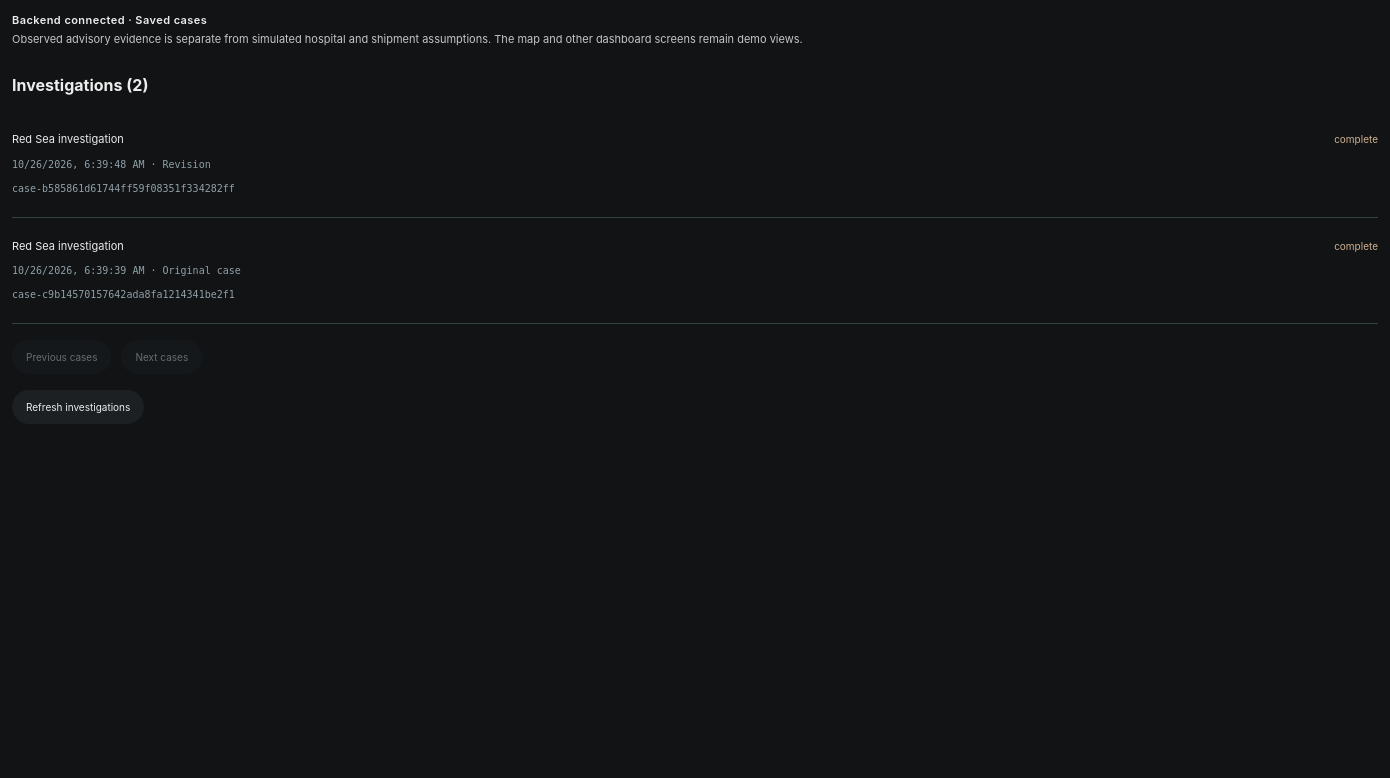
Test case: connected saved investigation drawer › opens a revised case and follows its actual immutable parent ID
The image size is (1390, 778).
Expected: the text "Backend connected · Saved cases" is shown, x1=12 y1=13 x2=207 y2=27
What coordinates should you click on to do the following:
click the button named "case-b585861d61744ff59f08351f334282ff"
I would click on:
 (68, 139)
Its box is x1=12 y1=111 x2=1378 y2=218.
(page scrolled)
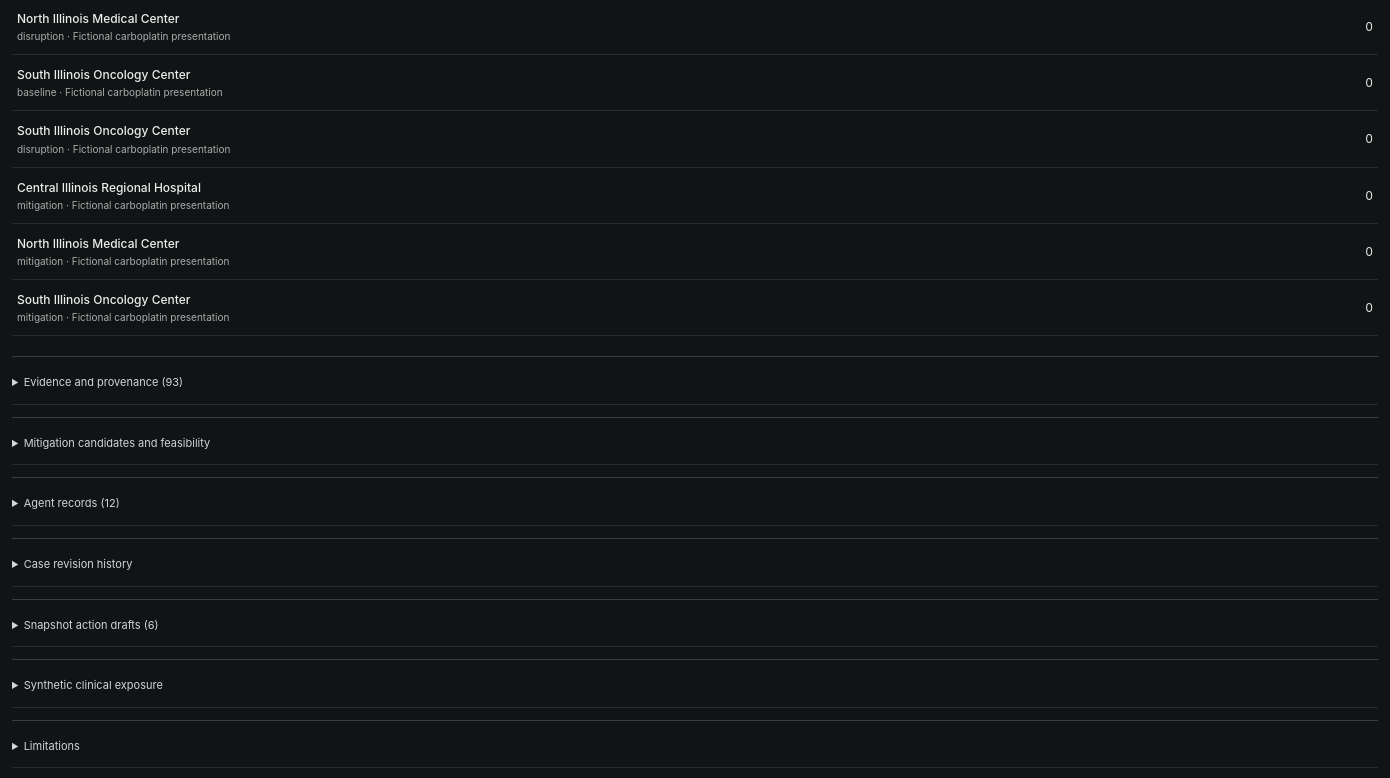
What coordinates should you click on to do the following:
click the heading "Case revision history"
I would click on:
 (78, 564)
Its box is x1=24 y1=557 x2=132 y2=571.
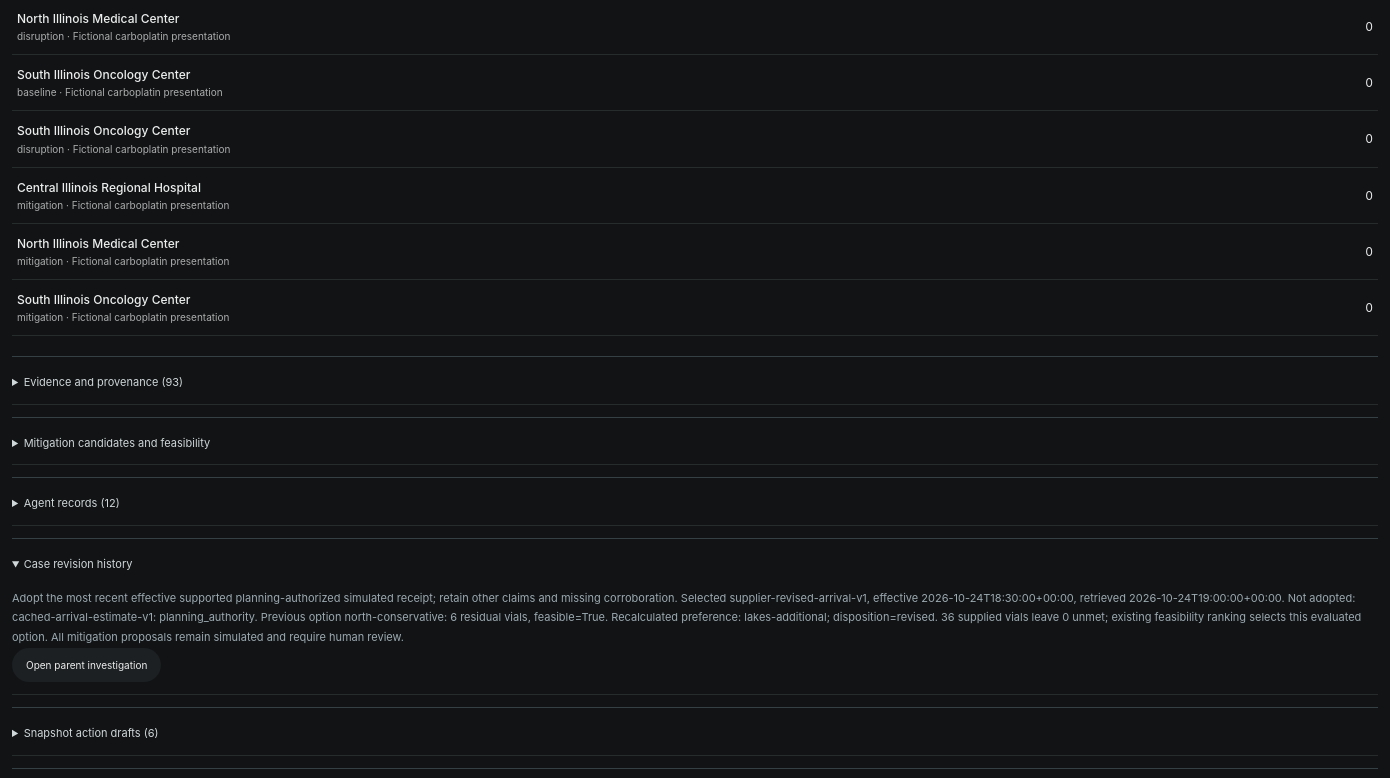
What coordinates should you click on to do the following:
click the button "Open parent investigation"
I would click on:
 (87, 665)
Its box is x1=12 y1=648 x2=161 y2=682.
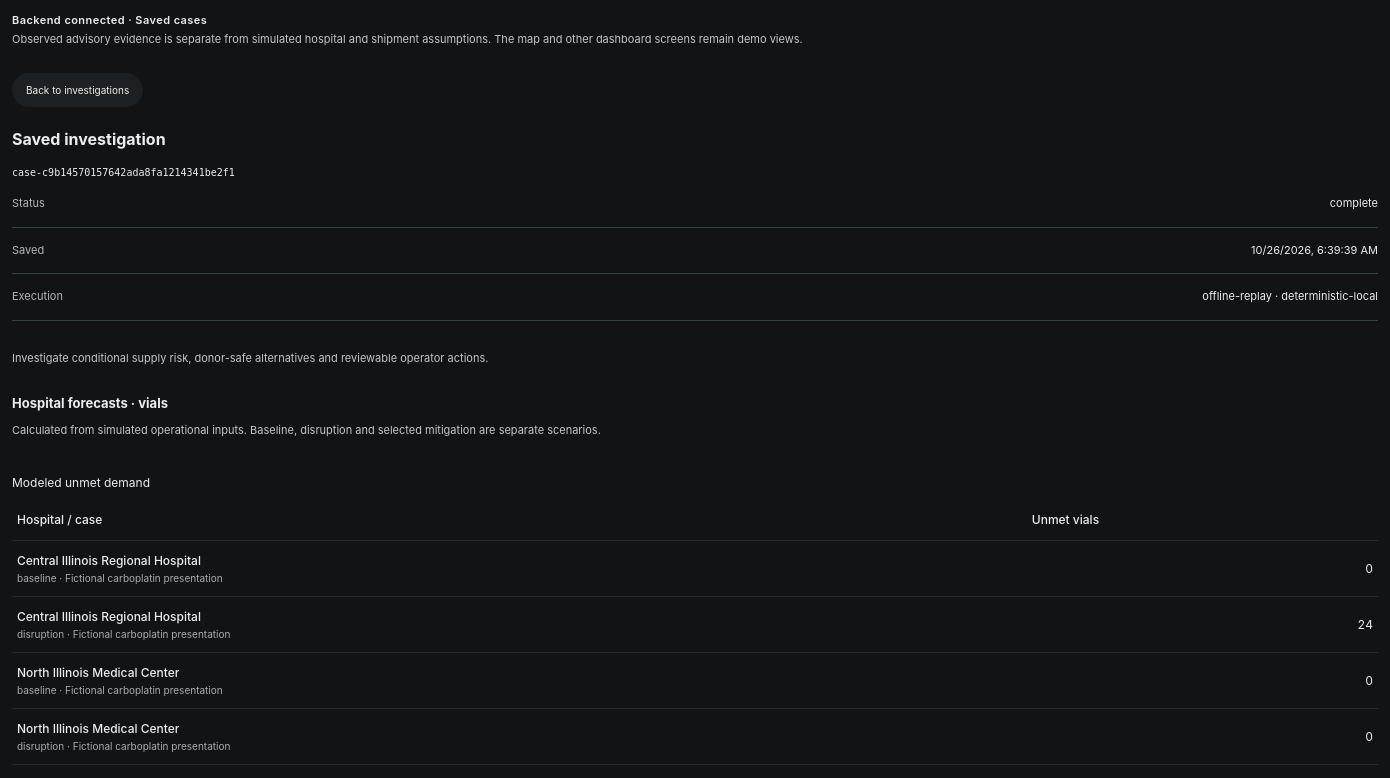
Expected: the button "case-b585861d61744ff59f08351f334282ff" is not shown
Result: the text "case-c9b14570157642ada8fa1214341be2f1" is shown at x1=12 y1=167 x2=235 y2=178
